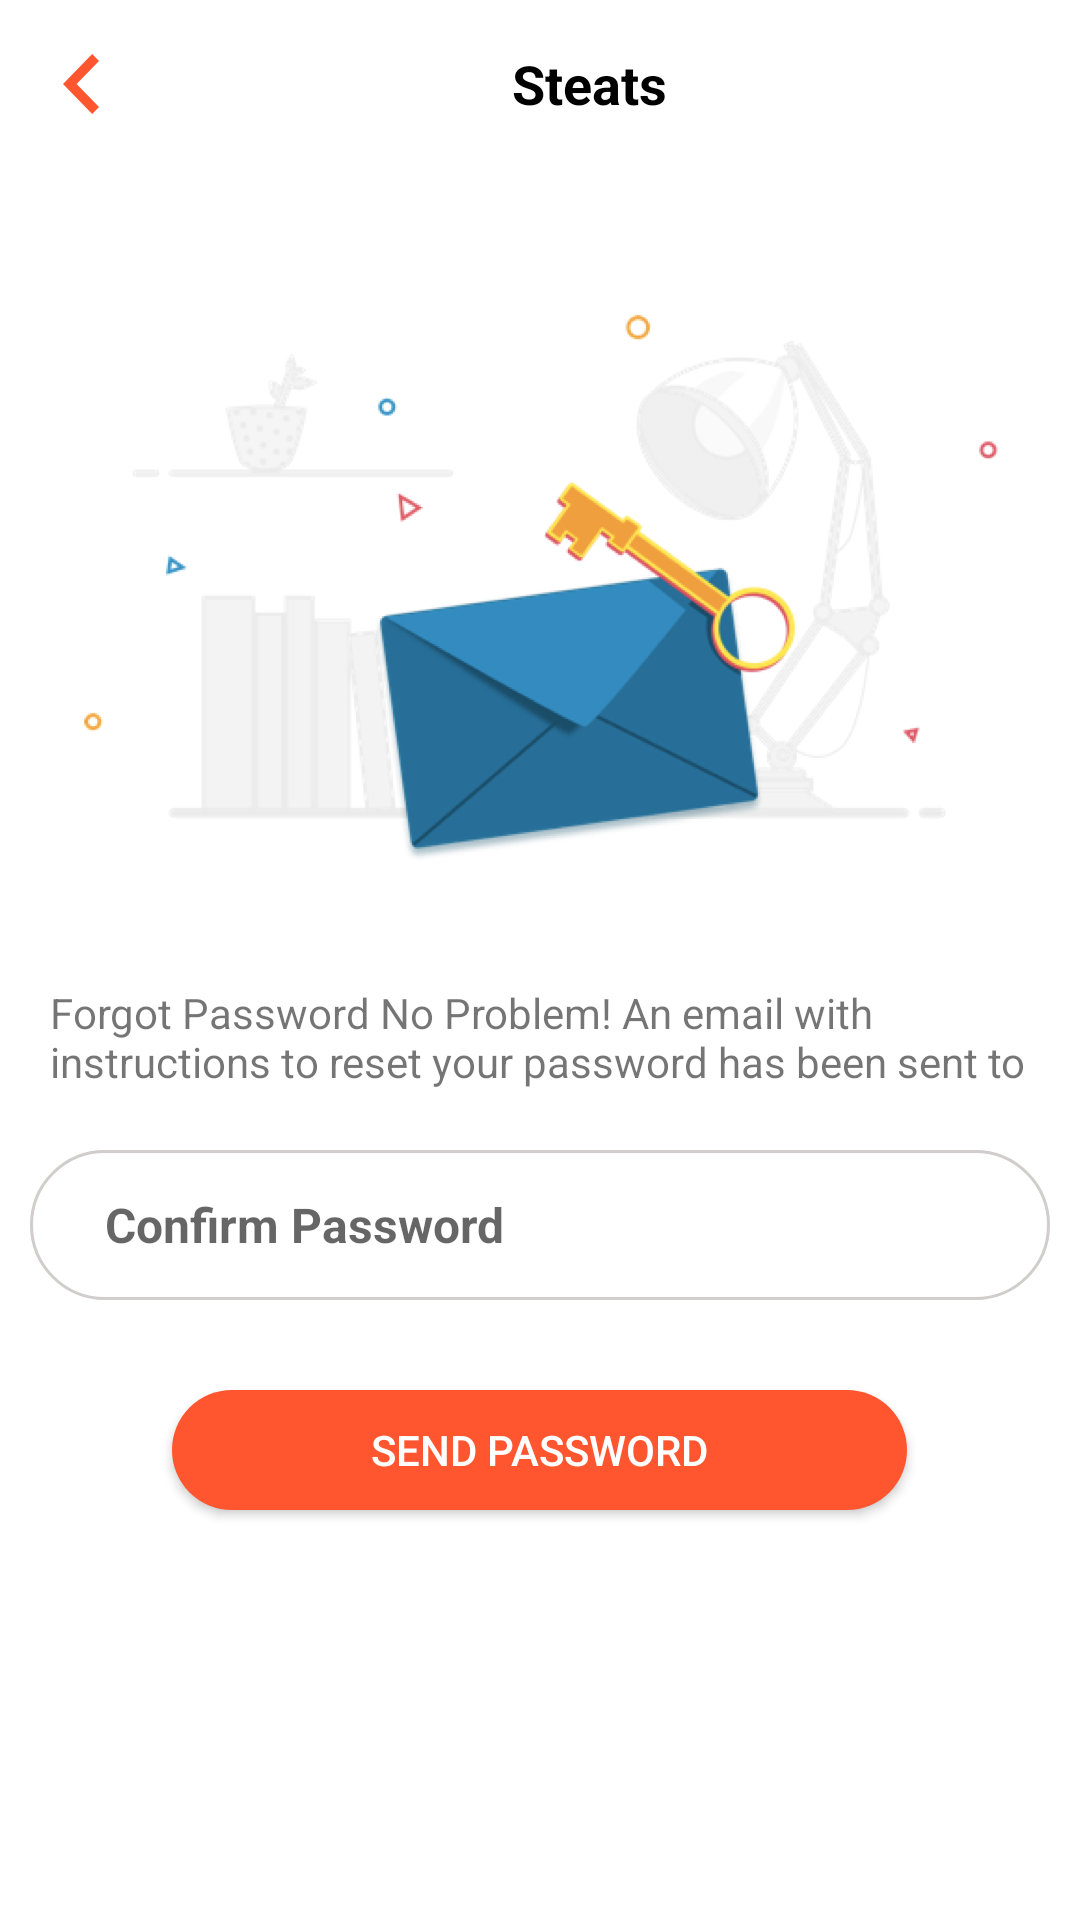

Icons on this 1080px×1920px Android screen, each with its box as (x1, y1, x2, y2):
back: (63, 54, 99, 114)
